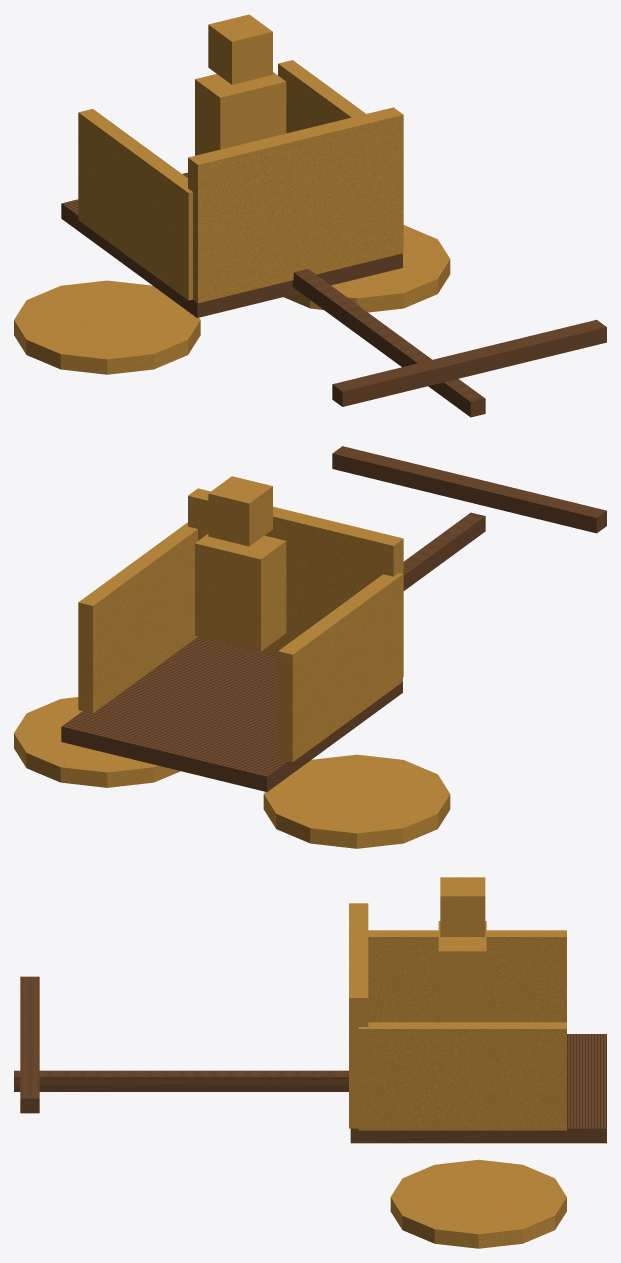
File: chariot_rig.obj
3 renders of one model, top to bottom at view 1: azimuth 30°, elevation 25°; view 2: azimuth 150°, elevation 25°; view 3: azimuth 270°, elevation 25°, orthographic. The views are drawn at different scales.
Size of the model in its own units: 2.8 by 1.84 by 3.7.
Materials: 3 (3 with a texture image).
